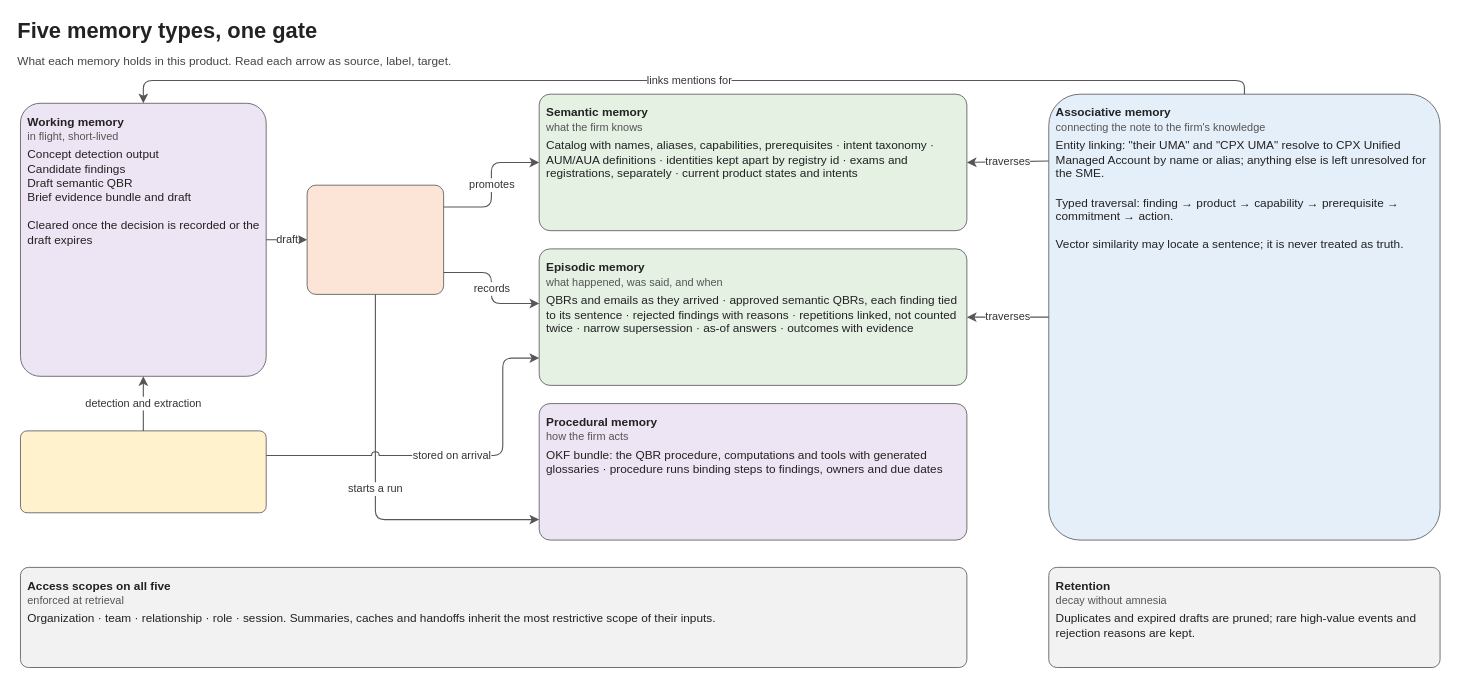
The diagram is 1460 pixels wide and 683 high, and some of its shapes have lost their labels. Each missing label, with the centre of its shape:
QBR note Salesforce export The advisor's words, as recorded: point 143,471
SME approval the one gate Confirm or reject each finding, with reasons: point 375,239
